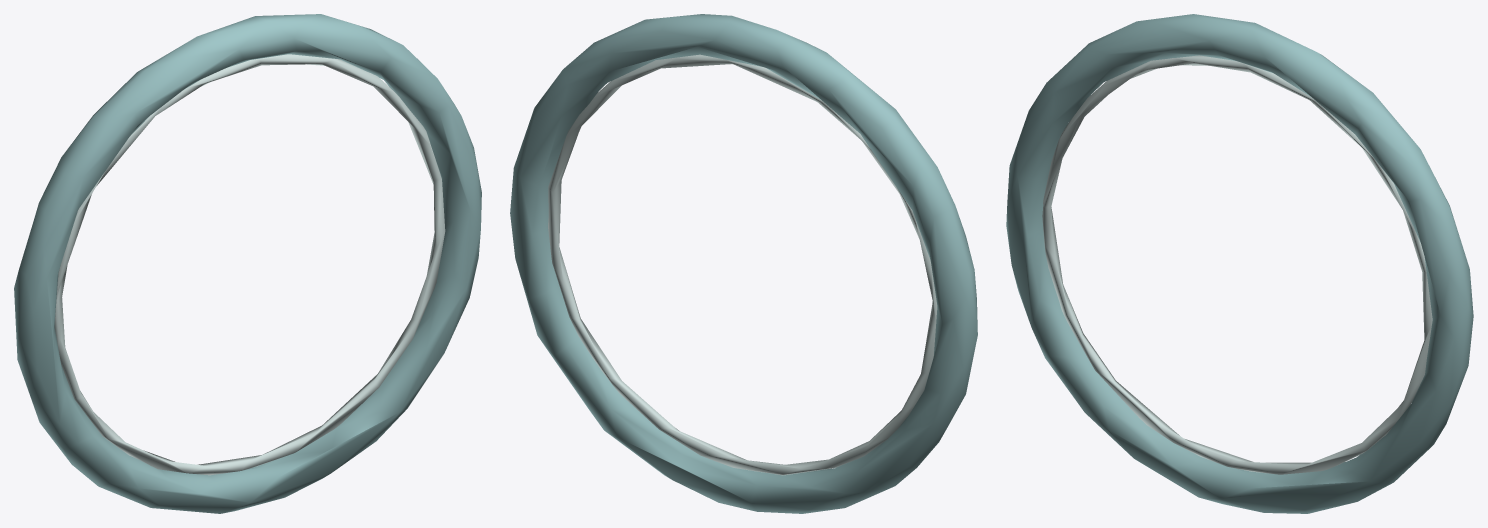
Rendered from ring.lod.glb.
The picture shows the model from 3 angles, left to right: view 1: azimuth 30°, elevation 25°; view 2: azimuth 150°, elevation 25°; view 3: azimuth 330°, elevation 25°; orthographic projection.
Visible parts, largest first — view 1: ring; view 2: ring; view 3: ring.
Boxes of the visible parts, bbox=[...] form: ring: bbox=[14, 14, 481, 513]; ring: bbox=[510, 14, 977, 513]; ring: bbox=[1006, 14, 1473, 513].
Size of the model in its own units: 11.7 by 11.68 by 0.9036.
